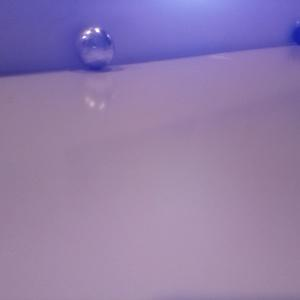alive_ball: (76, 26, 114, 68)
